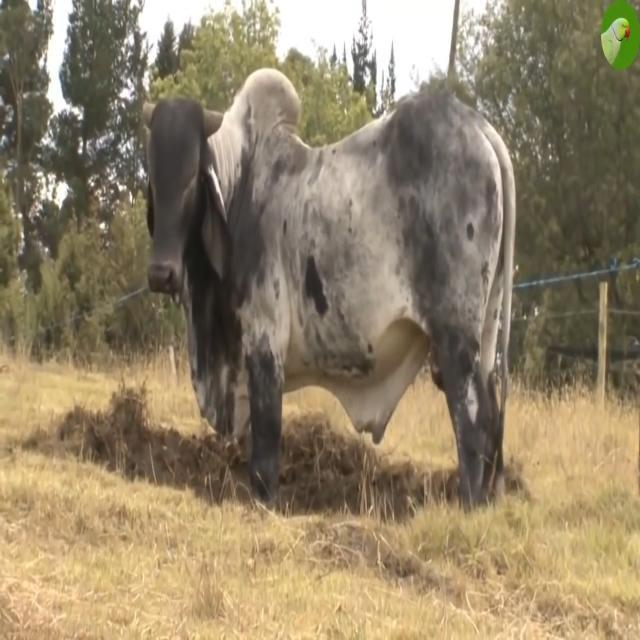cow: (148, 69, 515, 506)
